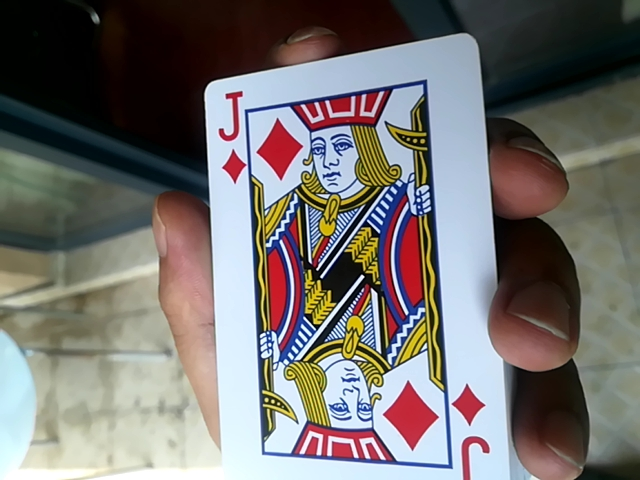fk j: (194, 36, 496, 478)
